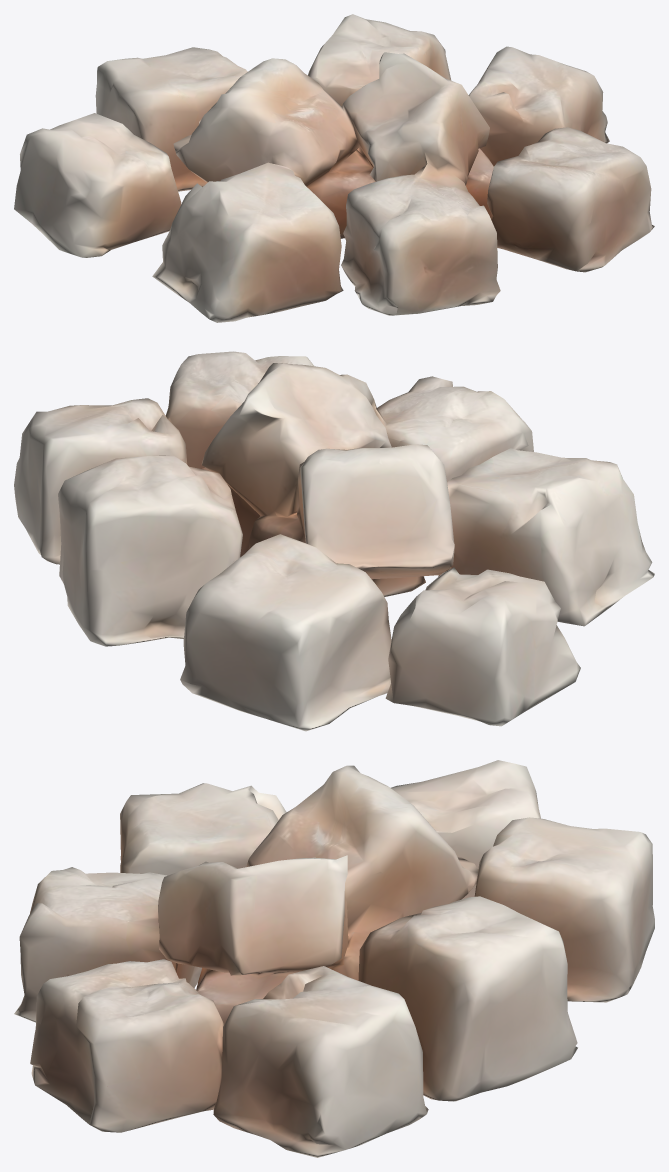
Rendered from pescado.glb.
3 renders of one model, top to bottom at view 1: azimuth 30°, elevation 25°; view 2: azimuth 150°, elevation 25°; view 3: azimuth 270°, elevation 25°, orthographic. The views are drawn at different scales.
Visible parts, largest first — view 1: tripo_node_d6326716-5b0c-4eb2-acde-2887a1b91208; view 2: tripo_node_d6326716-5b0c-4eb2-acde-2887a1b91208; view 3: tripo_node_d6326716-5b0c-4eb2-acde-2887a1b91208.
Boxes of the visible parts, x1,y1,x2,y2 form: tripo_node_d6326716-5b0c-4eb2-acde-2887a1b91208: [14, 14, 654, 322]; tripo_node_d6326716-5b0c-4eb2-acde-2887a1b91208: [14, 351, 654, 731]; tripo_node_d6326716-5b0c-4eb2-acde-2887a1b91208: [14, 760, 654, 1157].
Size of the model in its own units: 1 by 0.2777 by 0.8826.
1 material, 1 textured.
